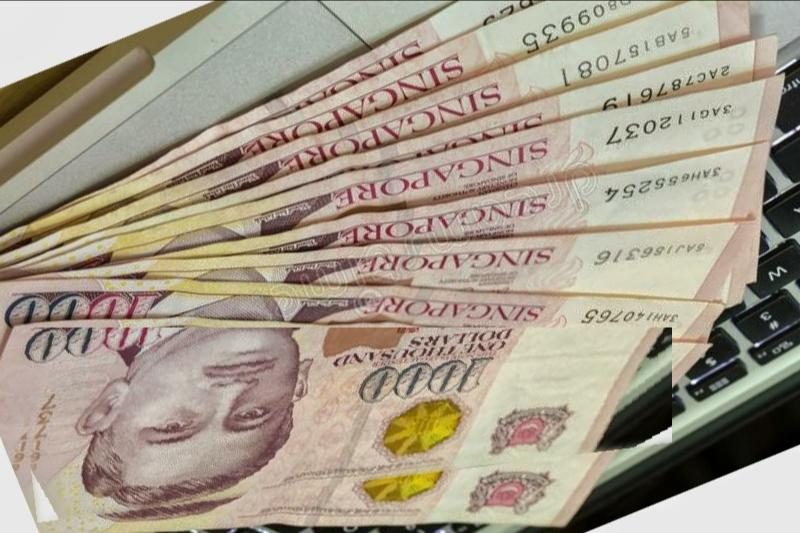1000SingaporeDollar: (13, 327, 672, 522)
